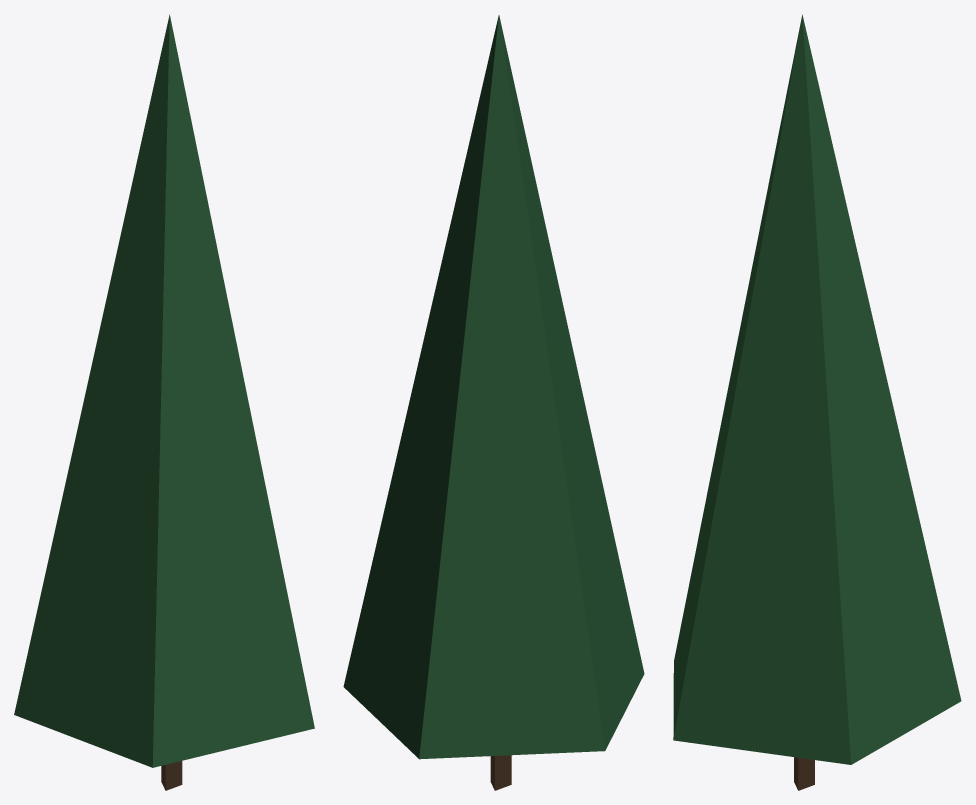
File: sapin_loin.glb
3 renders of one model, left to right at view 1: azimuth 30°, elevation 25°; view 2: azimuth 150°, elevation 25°; view 3: azimuth 270°, elevation 25°, orthographic.
Parts seen in each view (by area): view 1: sapin_loin; view 2: sapin_loin; view 3: sapin_loin.
Boxes of the visible parts, box(x1,y1,x2,y2) form: sapin_loin: box(14, 14, 314, 790); sapin_loin: box(343, 15, 644, 790); sapin_loin: box(673, 14, 961, 790).
Bounding box in the file's own units: 6.47 × 18.2 × 6.16.
1 material, 1 textured.
